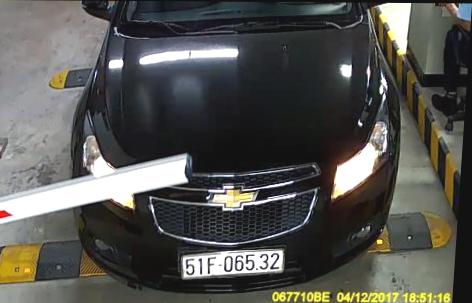License_Plate: (178, 245, 289, 280)
